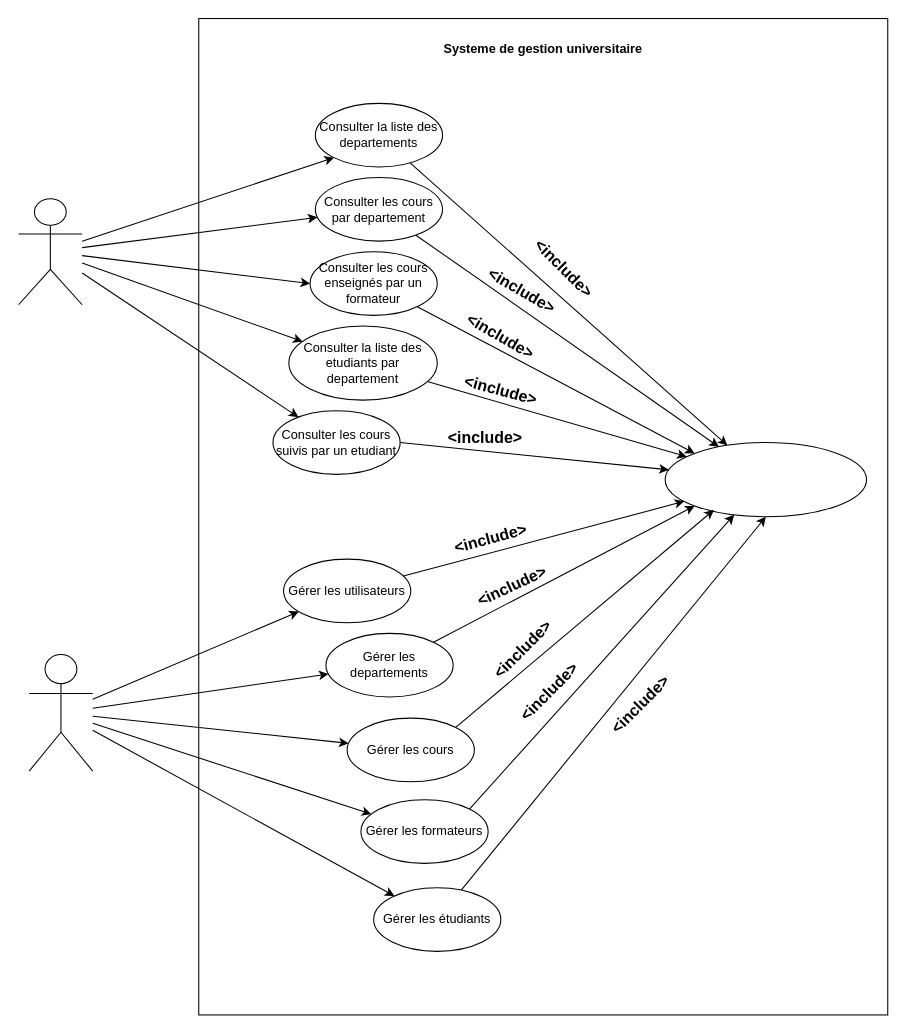
This 906x1034 diagram has some shape labels left out. Here are the shapes that lost their labels. From the top down, the centre of each, then its label:
the point at 49,251: Utilisateur
the point at 765,479: Se connecter
the point at 60,712: Administrateur
